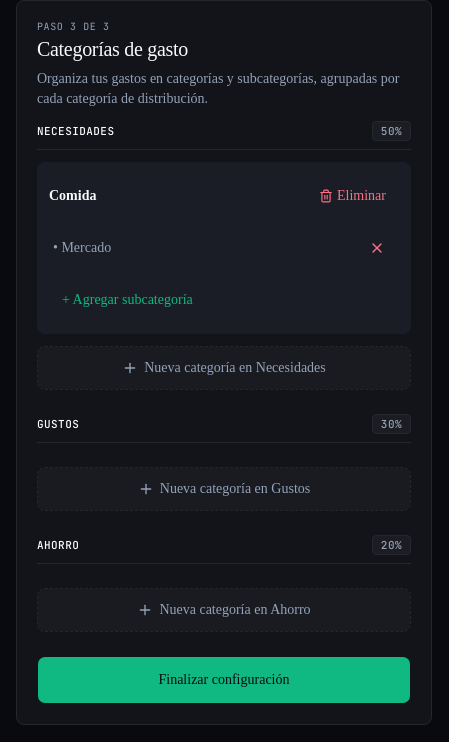
OnboardingStep3 — managing categories › deletes a category that has no movements
Click the button with aria-label "Eliminar categoría Comida" at x=352, y=196, box [306, 174, 399, 218]
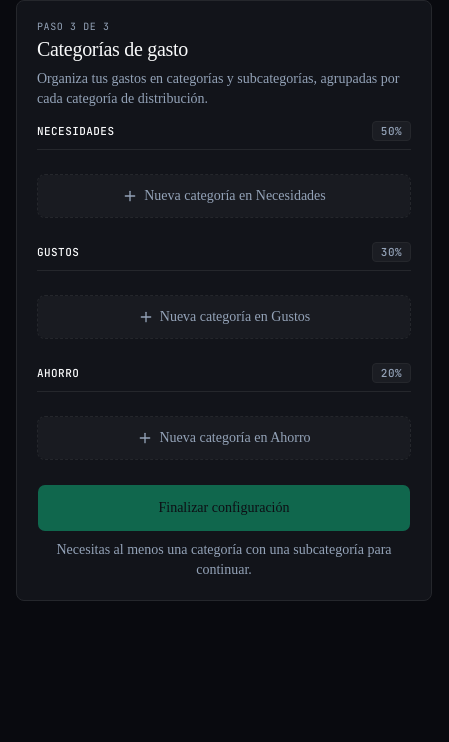
Expected: the text "Comida" is gone
